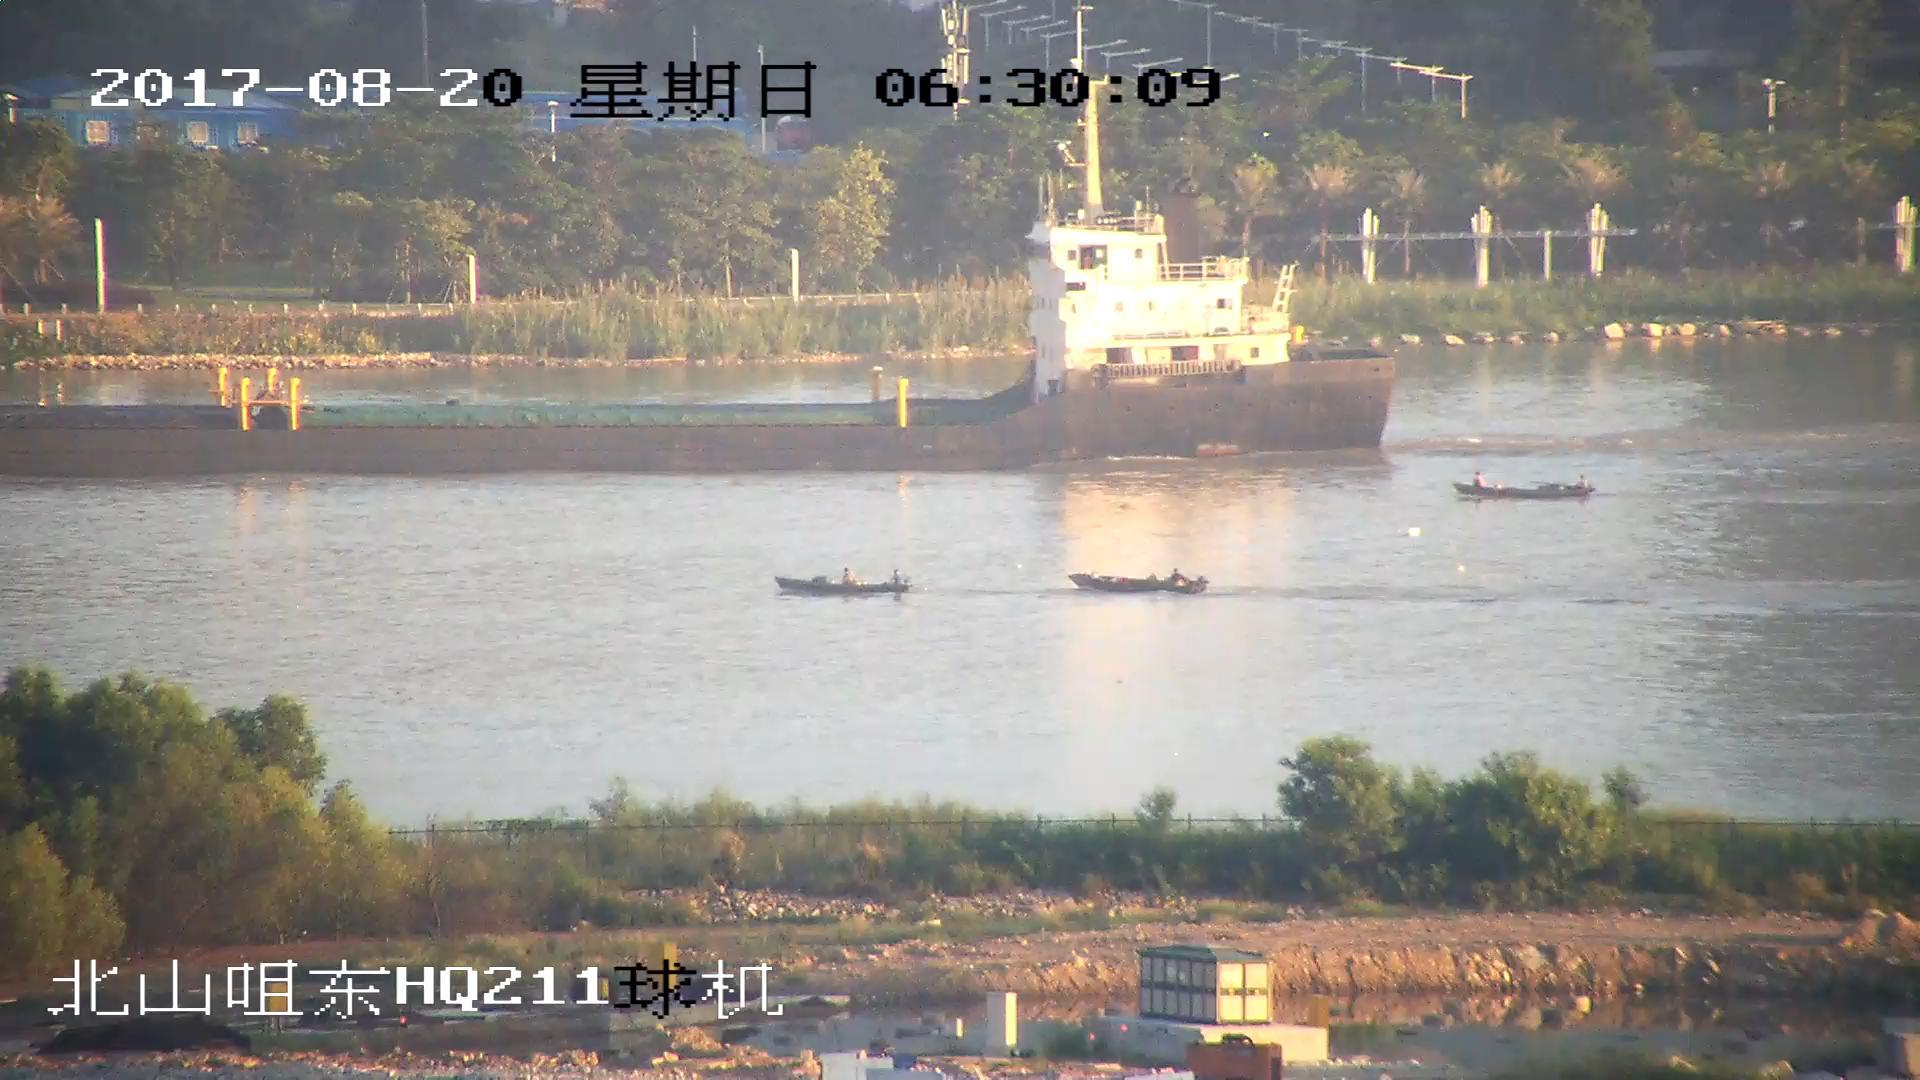Ship: (3, 121, 1398, 469), (1460, 473, 1596, 506), (1072, 568, 1207, 601), (781, 571, 913, 601)
